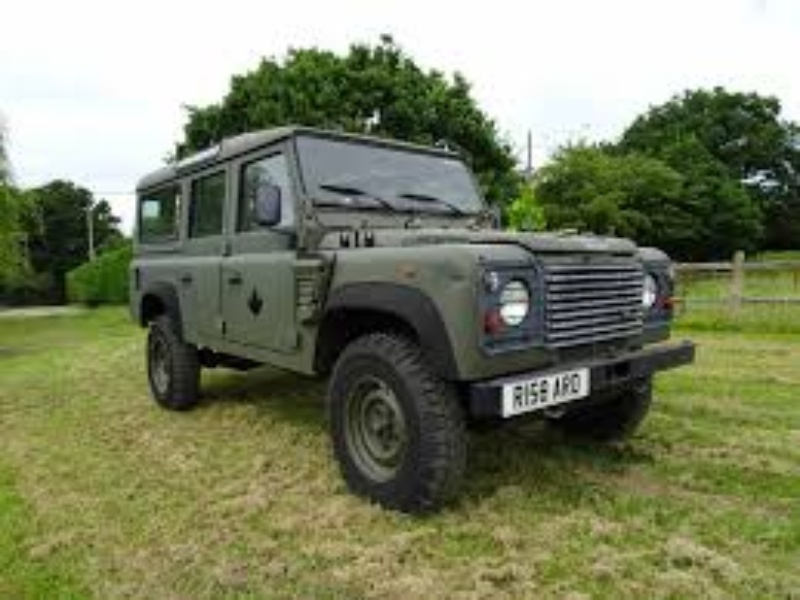jeep: (130, 120, 699, 517)
